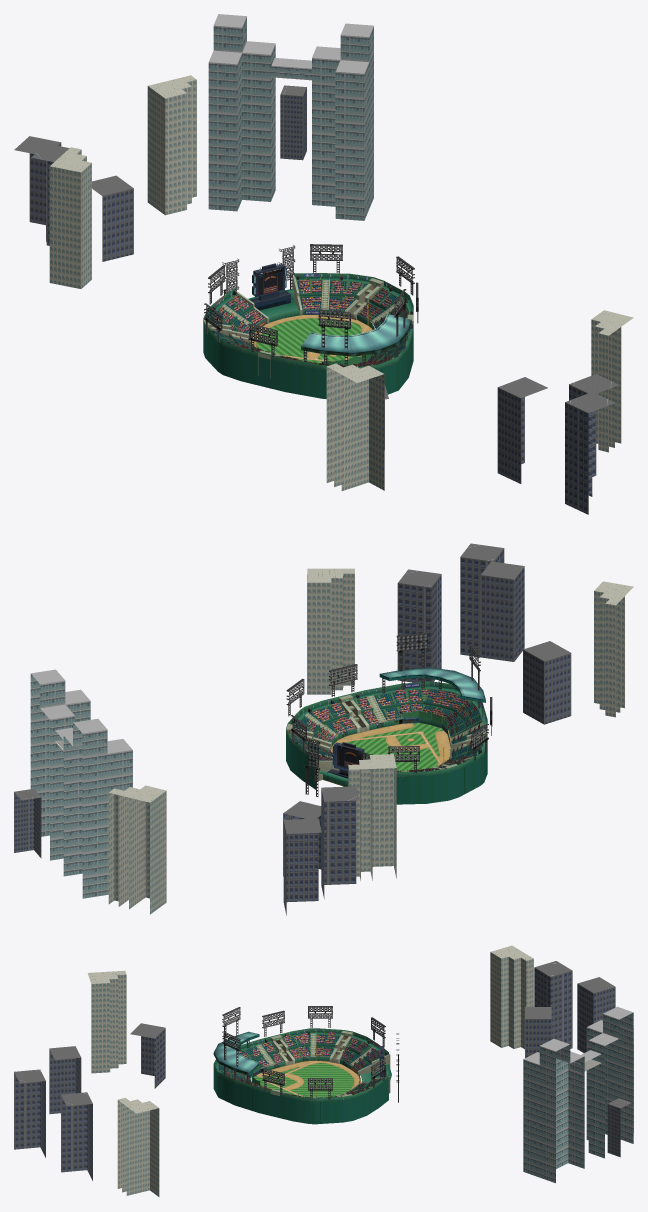
The model's file is stadium.FBX.
3 renders of one model, top to bottom at view 1: azimuth 30°, elevation 25°; view 2: azimuth 150°, elevation 25°; view 3: azimuth 270°, elevation 25°, orthographic. The views are drawn at different scales.
Visible parts, largest first — view 1: Box002, Object080, Object040, Box006, Object069, Object025, Object079, Object076, Object078, Object061, Object043, Object045 (+3 smaller); view 2: Box002, Box006, Object080, Object079, Object040, Object025, Object076, Object069, Object045, Object061, Object005, Plane002 (+3 smaller); view 3: Box002, Box006, Object040, Object079, Object025, Object080, Object076, Object069, Object005, Object061, Object045, Object078 (+2 smaller).
Boxes of the visible parts, box(x1,y1,x2,y2) form: Box002: box(208, 14, 373, 220); Object080: box(49, 75, 196, 288); Object040: box(203, 273, 413, 399); Box006: box(384, 374, 618, 514); Object069: box(326, 363, 384, 490); Object025: box(203, 244, 418, 378); Object079: box(14, 85, 306, 245); Object076: box(591, 310, 633, 452); Object078: box(92, 175, 133, 261); Object061: box(214, 279, 406, 366); Object043: box(301, 314, 411, 356); Object045: box(210, 280, 408, 364); Box002: box(30, 669, 132, 898); Box006: box(397, 543, 571, 724); Object080: box(108, 754, 396, 914); Object079: box(14, 786, 359, 915); Object040: box(286, 681, 487, 804); Object025: box(286, 633, 492, 796); Object076: box(307, 568, 354, 694); Object069: box(594, 581, 633, 717); Object045: box(291, 688, 483, 767); Object061: box(296, 689, 481, 771); Object005: box(346, 722, 443, 771); Plane002: box(331, 723, 451, 765); Box002: box(523, 1006, 633, 1183); Box006: box(14, 1023, 165, 1180); Object040: box(213, 1028, 391, 1124); Object079: box(534, 961, 631, 1157); Object025: box(218, 1006, 399, 1102); Object080: box(490, 945, 633, 1133); Object076: box(117, 1098, 159, 1196); Object069: box(87, 970, 126, 1073); Object005: box(252, 1063, 354, 1097); Object061: box(225, 1032, 381, 1098); Object045: box(218, 1034, 382, 1093); Object078: box(525, 1007, 551, 1057).
Bounding box in the file's own units: 144269 × 81713 × 286766.
15 materials, 15 textured.
